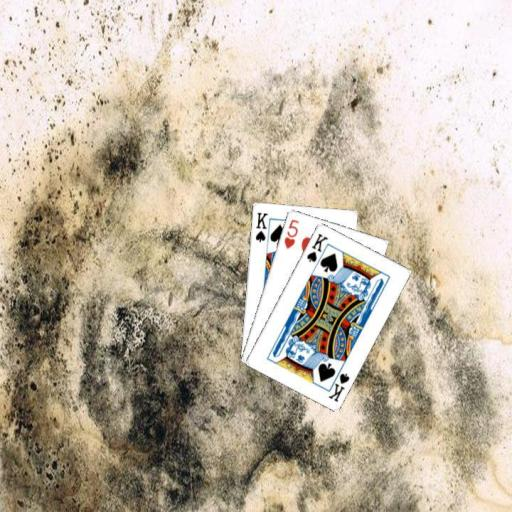5H: (281, 216, 300, 250)
KS: (324, 364, 351, 403), (303, 230, 329, 263), (252, 209, 269, 243)
